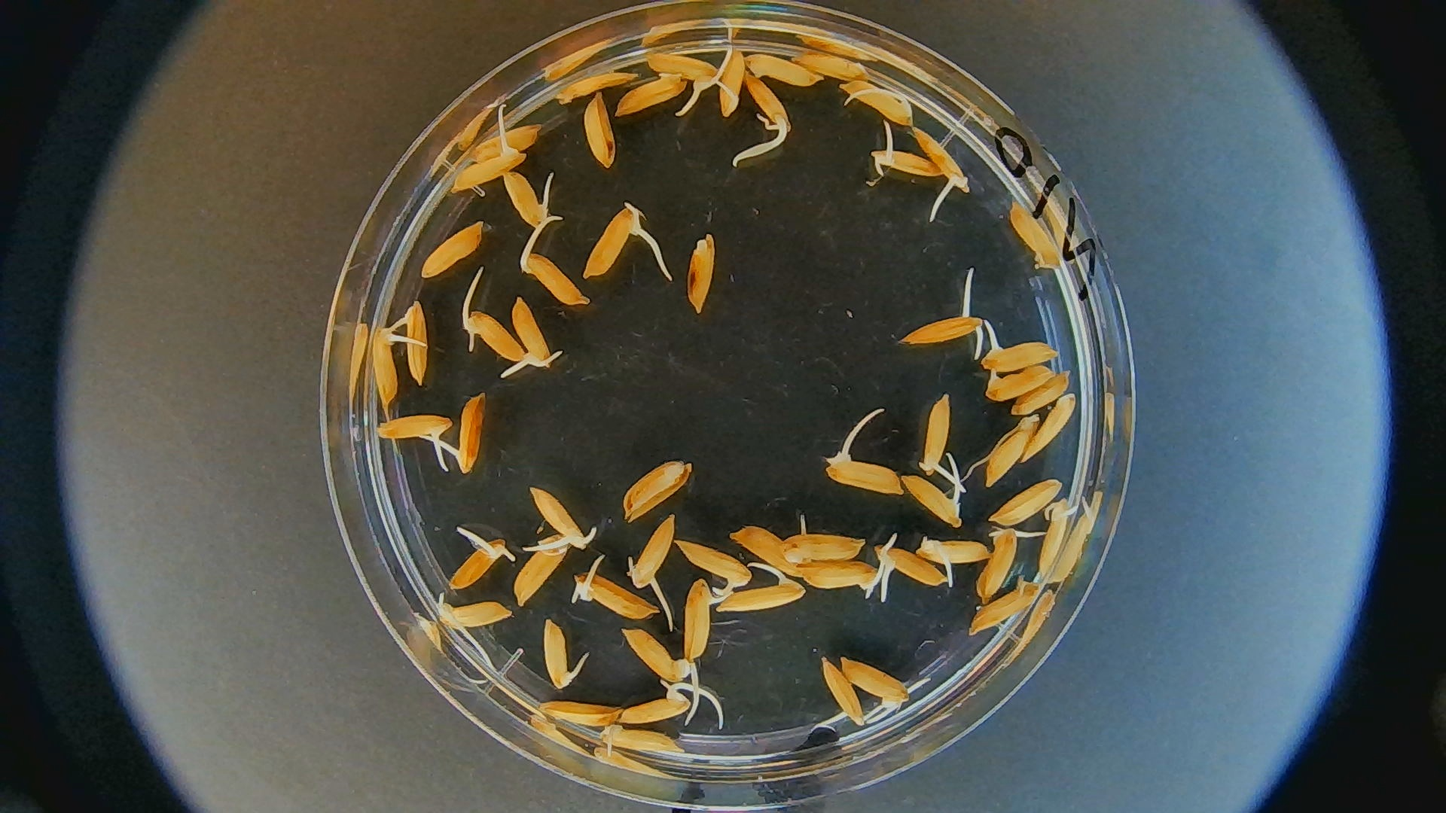no: (723, 522, 807, 579), (619, 460, 692, 523), (418, 218, 489, 280), (457, 120, 554, 163), (1021, 391, 1077, 462), (835, 656, 910, 707), (970, 580, 1042, 633), (989, 477, 1063, 526), (985, 418, 1038, 486), (818, 656, 868, 726), (1007, 206, 1061, 270), (614, 71, 688, 117), (746, 48, 827, 89), (554, 69, 639, 104), (790, 48, 868, 84), (1007, 370, 1072, 411), (581, 93, 616, 169), (685, 233, 715, 313), (538, 703, 622, 730)
yes: (626, 513, 681, 600), (718, 565, 810, 615), (512, 535, 570, 611), (571, 571, 655, 623), (675, 539, 751, 595), (977, 528, 1035, 601), (912, 123, 972, 193), (584, 204, 641, 276), (528, 486, 590, 548), (523, 250, 590, 306), (465, 314, 529, 372), (445, 389, 488, 475), (795, 559, 883, 601), (835, 81, 916, 126), (447, 536, 512, 592), (830, 449, 905, 497), (901, 470, 966, 525), (623, 628, 691, 680), (643, 47, 725, 90), (874, 543, 946, 591), (450, 147, 529, 190), (498, 168, 554, 227), (512, 294, 557, 367), (983, 362, 1060, 403), (597, 726, 688, 760), (780, 531, 865, 567), (1039, 497, 1077, 577), (618, 685, 691, 726), (538, 617, 580, 688), (746, 72, 792, 136), (683, 578, 718, 661), (904, 314, 987, 348), (984, 335, 1055, 374), (921, 392, 953, 474), (401, 294, 430, 381), (371, 325, 402, 405), (438, 599, 512, 632), (915, 537, 993, 566), (377, 413, 453, 442), (871, 148, 937, 179), (718, 48, 744, 120)
